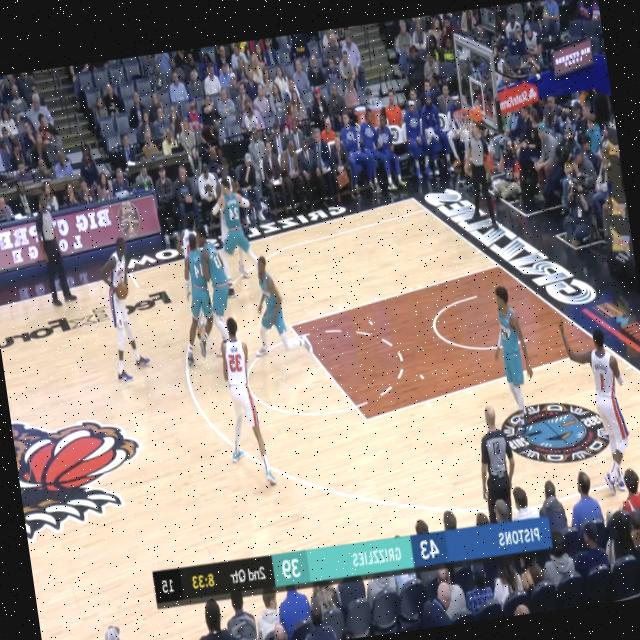no foul: (158, 205, 245, 372), (214, 169, 264, 294)
